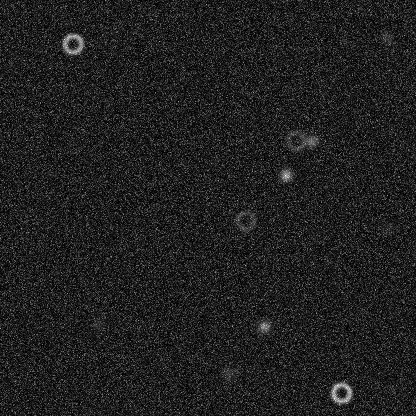Ring: (329, 380, 353, 404), (284, 128, 308, 152), (233, 208, 257, 232), (60, 31, 84, 55)
Spot: (220, 365, 236, 381), (303, 132, 319, 148), (89, 316, 105, 332), (378, 221, 394, 237), (277, 166, 293, 182), (256, 318, 272, 334), (379, 29, 395, 45)
